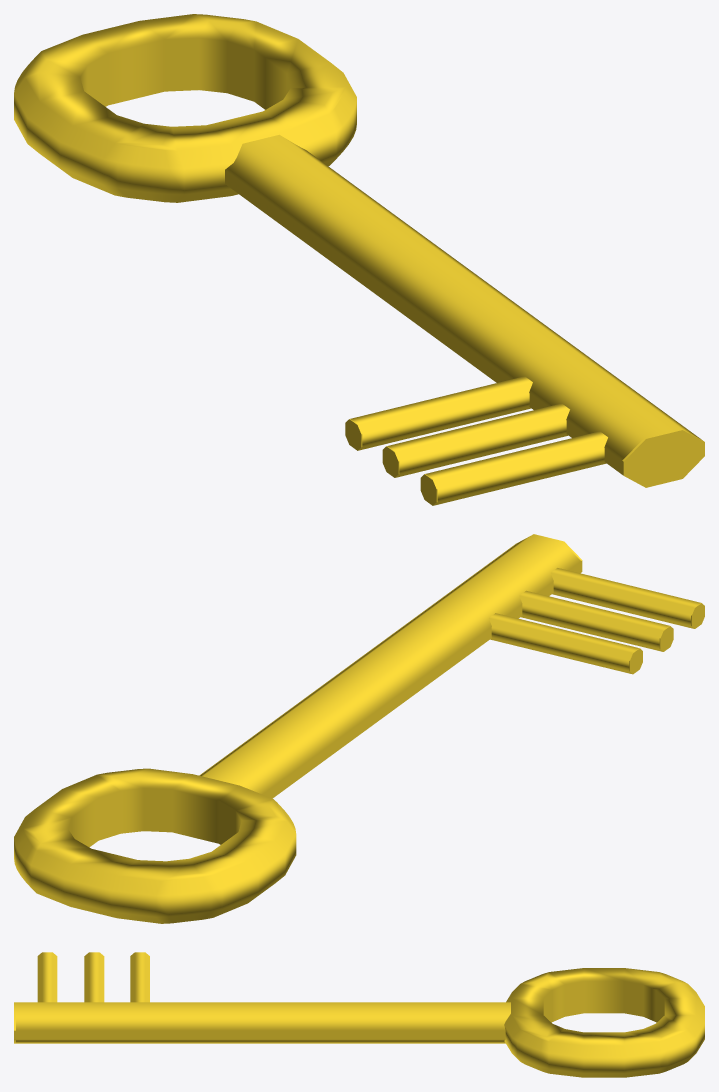
The model's file is NORMAL_KEY.fbx.
3 renders of one model, top to bottom at view 1: azimuth 30°, elevation 25°; view 2: azimuth 150°, elevation 25°; view 3: azimuth 270°, elevation 25°, orthographic. The views are drawn at different scales.
Parts seen in each view (by area): view 1: SIMPLE_KEY; view 2: SIMPLE_KEY; view 3: SIMPLE_KEY.
Boxes of the visible parts, x1,y1,x2,y2 form: SIMPLE_KEY: [14, 14, 704, 505]; SIMPLE_KEY: [14, 534, 704, 923]; SIMPLE_KEY: [14, 952, 704, 1077].
Bounding box in the file's own units: 7.36 × 1.04 × 20.4.
